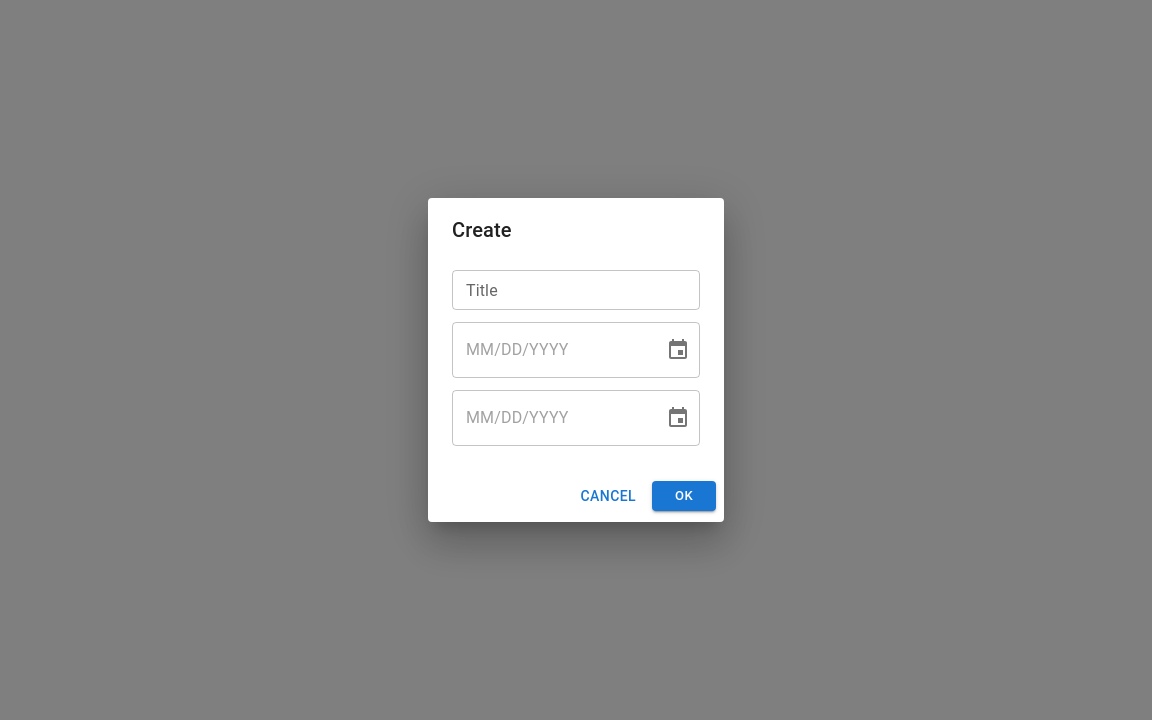
<CreateEditModal /> › Title and Start Date should be required
Click the button labelled "OK". click: (684, 496)
box: [652,481,716,511]
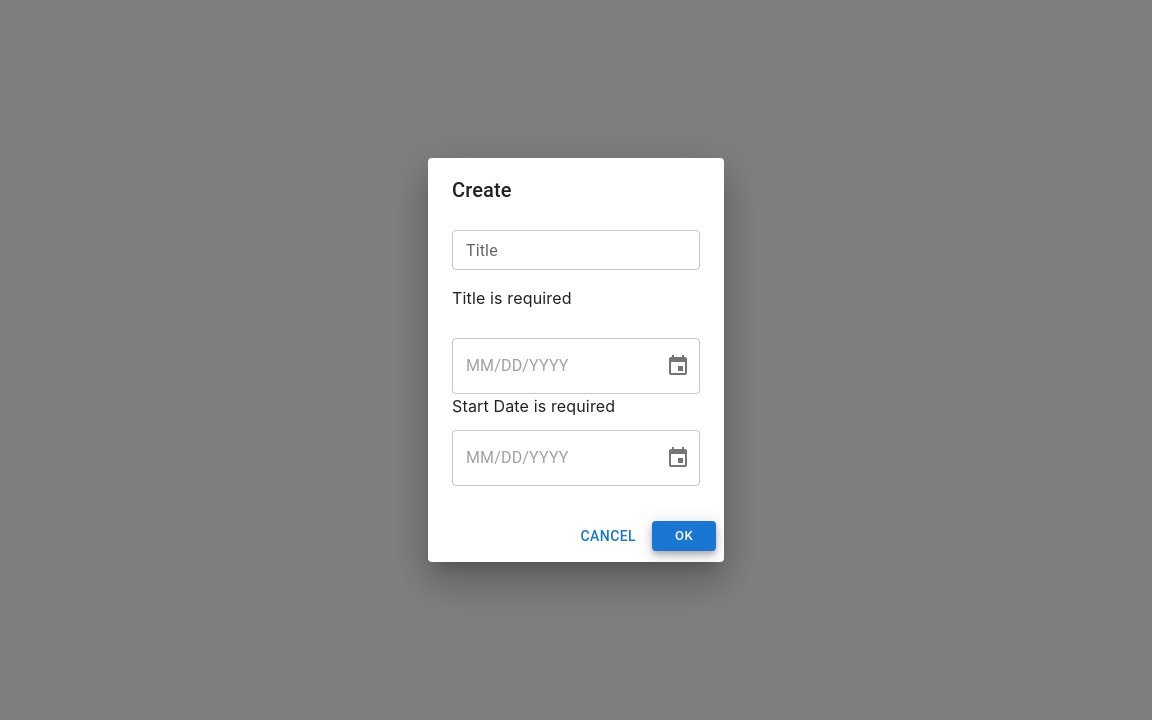
expect the text "Title is required" is shown: met, box [452,288,572,308]
expect the text "Start Date is required" is shown: met, box [452,396,615,416]
